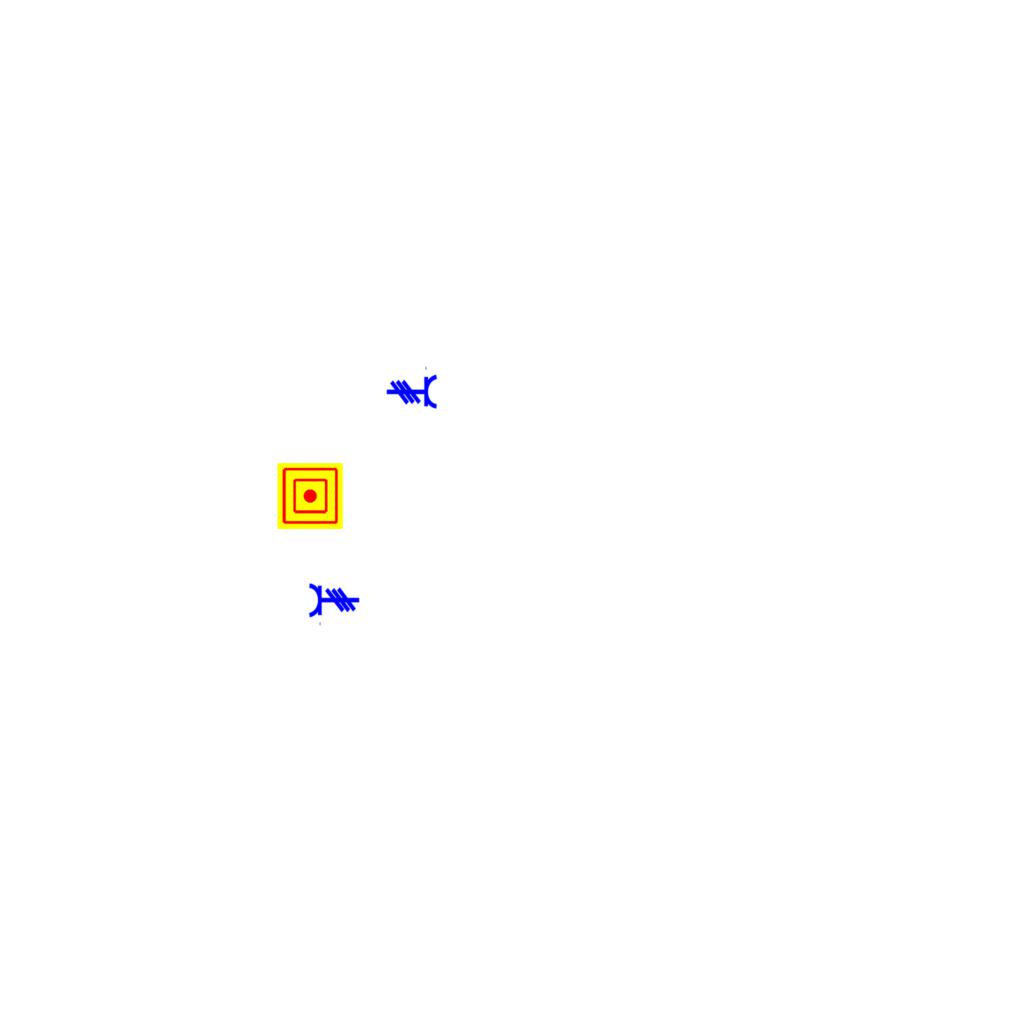CEE_Drehstrom_Steckdose_16_32_A: (308, 582, 360, 627), (386, 365, 438, 410)
NAM-Nichtautomatischer_Melder: (277, 463, 343, 529)
